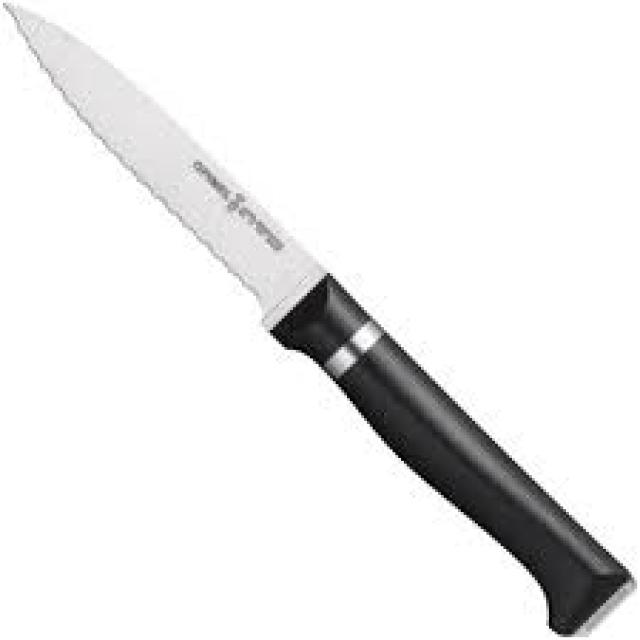knife: (1, 4, 638, 640)
